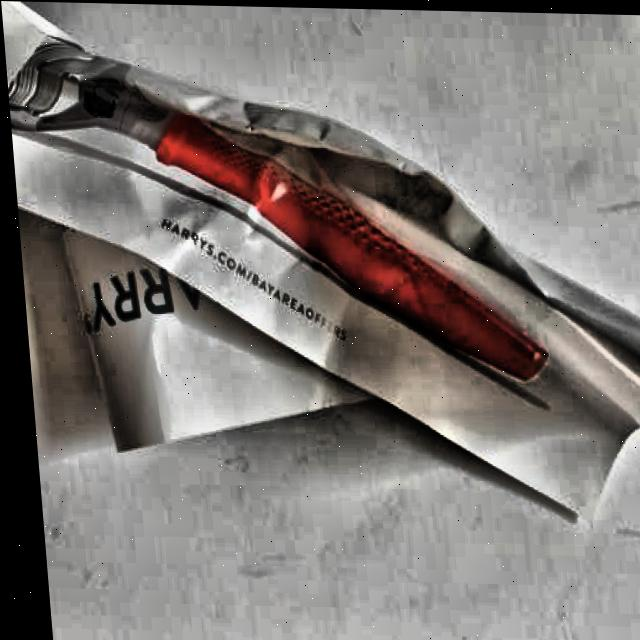paper: (0, 0, 640, 524)
